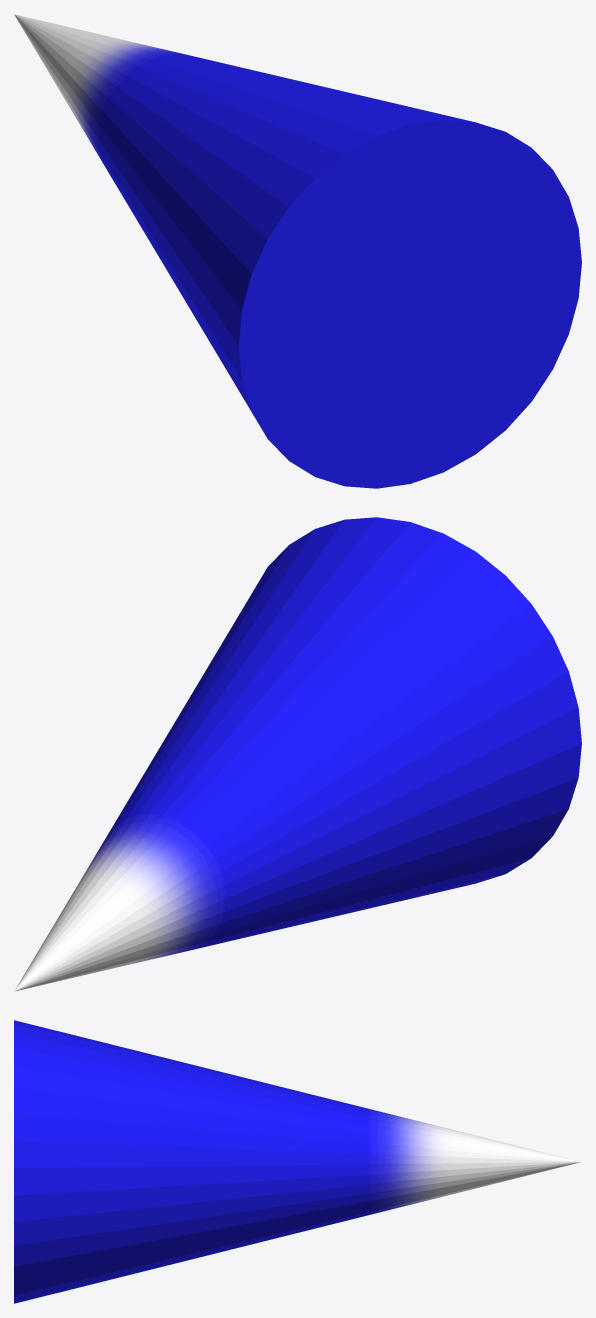
Rendered from direction.obj.
3 views of the same model, one above another, from view 1: azimuth 30°, elevation 25°; view 2: azimuth 150°, elevation 25°; view 3: azimuth 270°, elevation 25° (orthographic). The views are drawn at different scales.
Parts seen in each view (by area): view 1: 円錐; view 2: 円錐; view 3: 円錐.
Part boxes in pixels (box(x1,y1,x2,y2)): 円錐: box(14, 14, 581, 488); 円錐: box(14, 517, 581, 991); 円錐: box(14, 1020, 580, 1303).
Bounding box in the file's own units: 1.4 × 1.4 × 2.8.
Materials: 1 (1 with a texture image).
